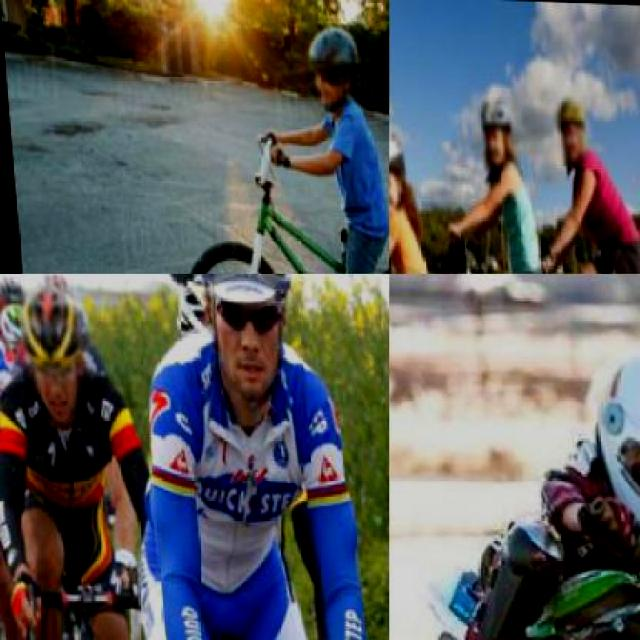With Helmet: (590, 325, 638, 552), (14, 274, 94, 394), (194, 274, 301, 355), (296, 22, 364, 110), (470, 84, 519, 170), (550, 83, 588, 166), (389, 118, 406, 220)
